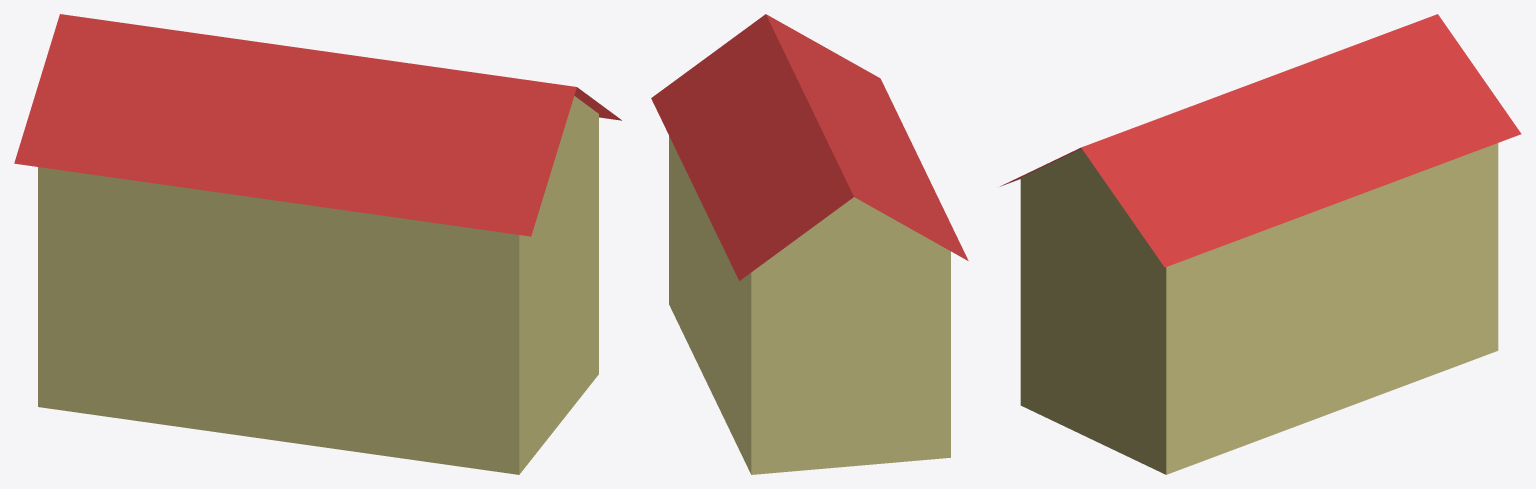
3 views of the same model, side by side, from view 1: azimuth 30°, elevation 25°; view 2: azimuth 150°, elevation 25°; view 3: azimuth 270°, elevation 25° (orthographic). The views are drawn at different scales.
Parts seen in each view (by area): view 1: group_5, group_3, group_4; view 2: group_5, group_3, group_4; view 3: group_5, group_3, group_4.
Boxes of the visible parts, x1,y1,x2,y2 form: group_5: (38,96,598,474); group_3: (15,16,621,236); group_4: (14,14,613,176); group_5: (669,136,950,474); group_3: (651,14,967,280); group_4: (651,14,968,260); group_5: (1020,143,1498,474); group_3: (1081,14,1521,267); group_4: (1000,143,1336,267).
Size of the model in its own units: 22.93 by 23.81 by 14.9.
